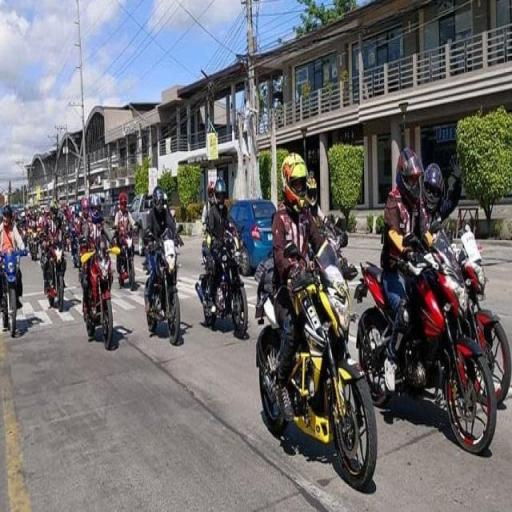Helmet: (385, 138, 435, 212), (277, 148, 314, 210), (423, 160, 446, 216), (204, 174, 232, 212), (151, 186, 178, 216), (116, 188, 134, 214), (87, 198, 105, 224), (0, 205, 14, 228), (46, 200, 60, 220)
Motor: (248, 250, 383, 490), (354, 235, 494, 454), (194, 226, 248, 336), (74, 246, 120, 354), (140, 238, 184, 344), (0, 244, 25, 338), (39, 242, 69, 310), (111, 226, 140, 284)
